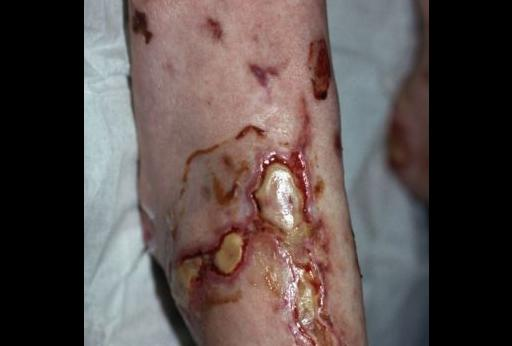NonPU: (148, 33, 348, 346)
